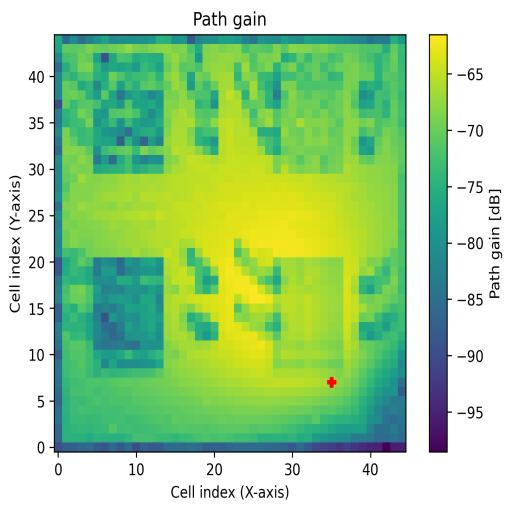Concrete: (273, 52, 343, 174)
Glass: (93, 53, 171, 174)
Metal: (273, 258, 344, 368)
Wood: (86, 258, 164, 377)
